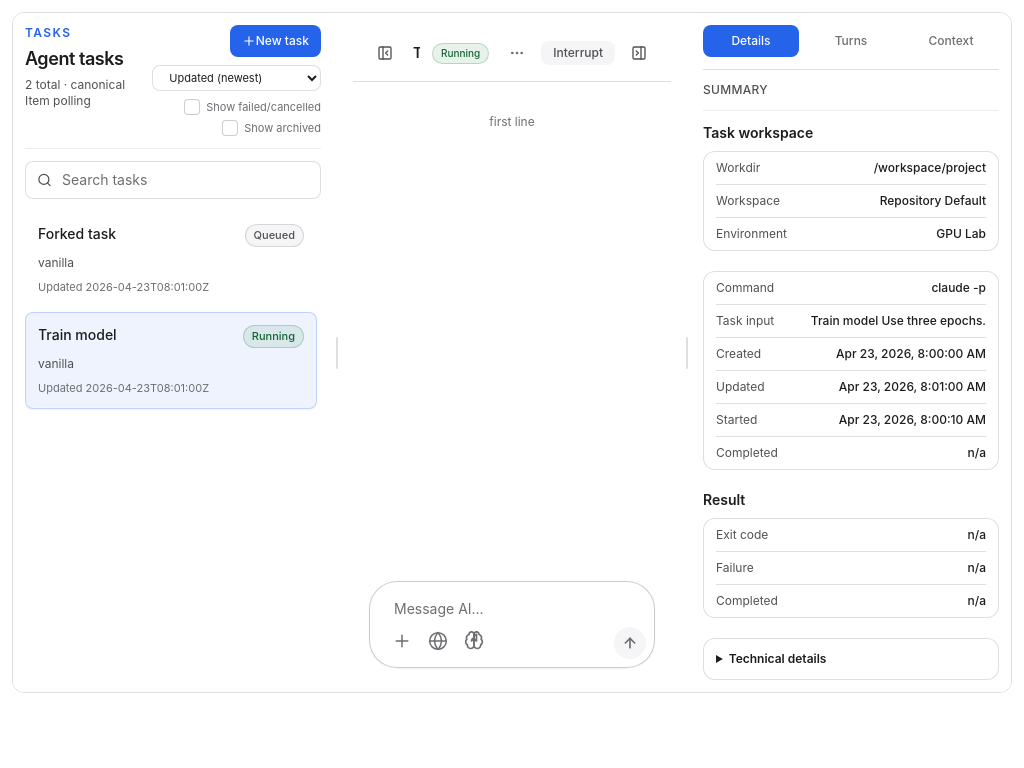
Test: TasksPage › previews a fork before explicit confirmation and selects the canonical target Task
Check: the heading "Train model" is shown, box [413,43,420,63]
Click the button named "Task actions" at (517, 53), box [501,37,533,69]
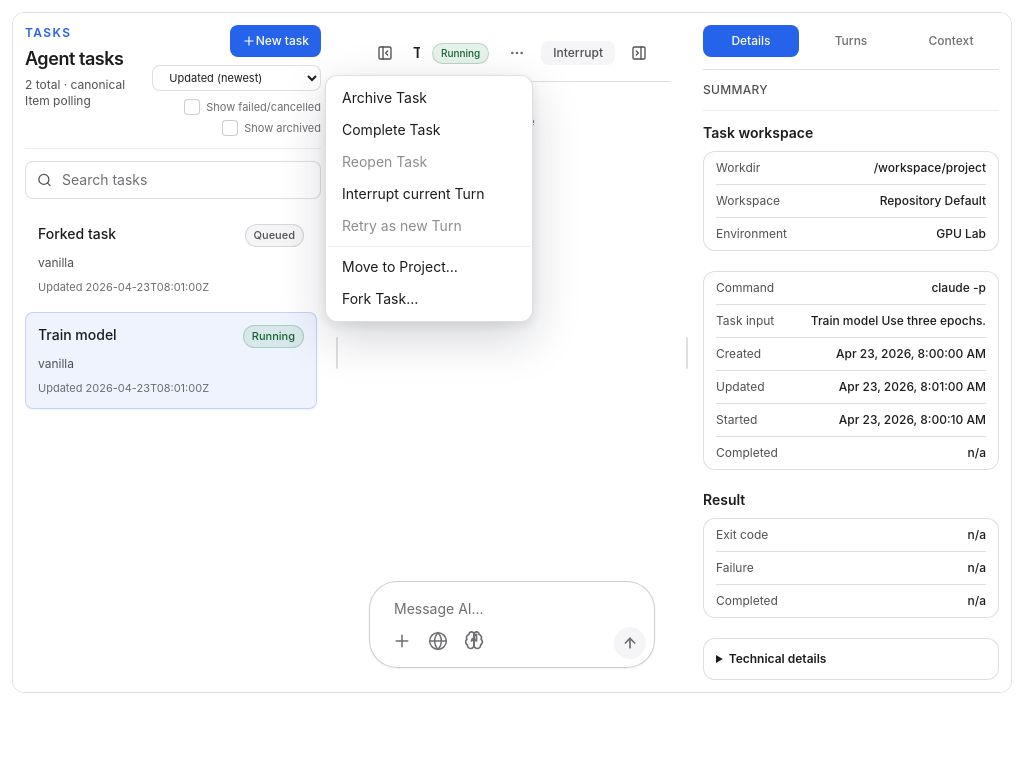
Click the menu item "Fork Task…" at (380, 298), box [342,290,418,307]
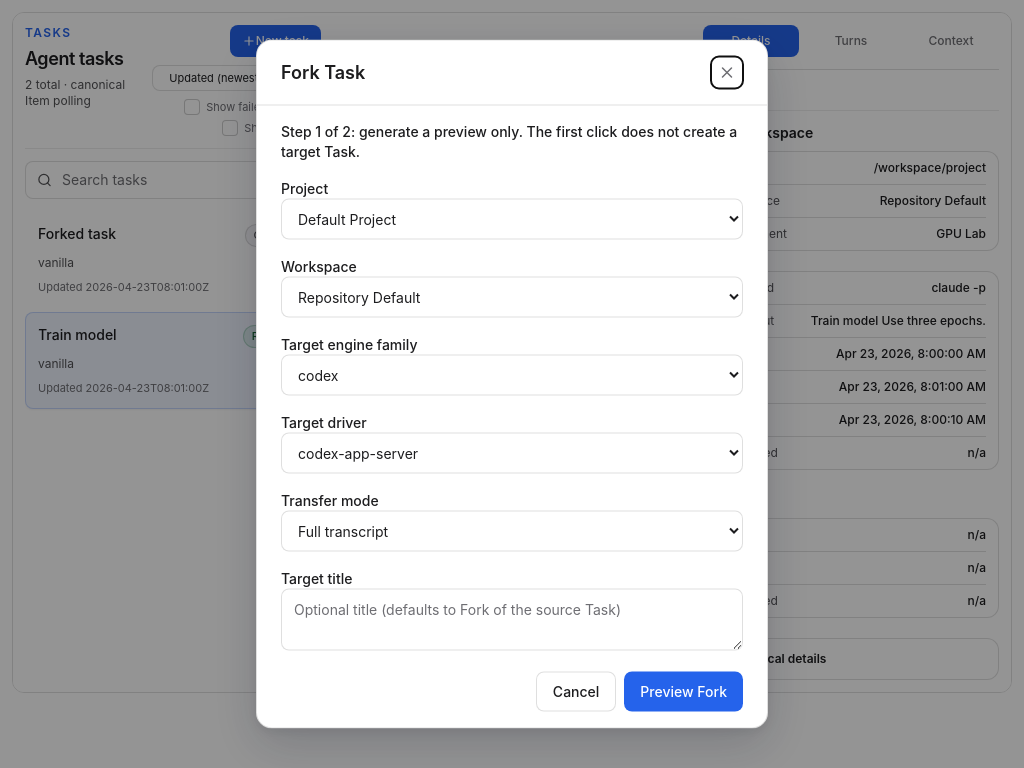
Click the button "Preview Fork" at (684, 692), box [624,672,743,712]
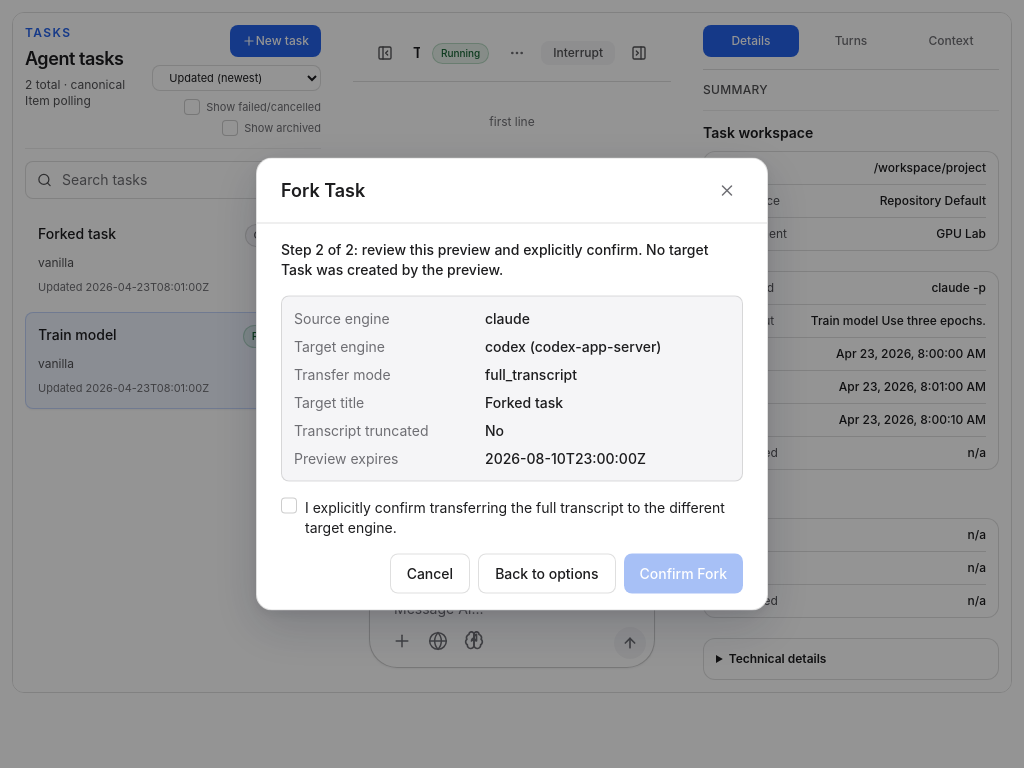
Check: the text "Step 2 of 2: review this preview and explicitly confirm. No target Task was created by the preview." is shown, box [281,240,708,278]
Check: the text "Source engine" is shown, box [294,310,390,326]
Check: the text "codex (codex-app-server)" is shown, box [485,338,662,354]
Click the checkbox named "Confirm full transcript transfer" at (289, 506), box [281,498,297,514]
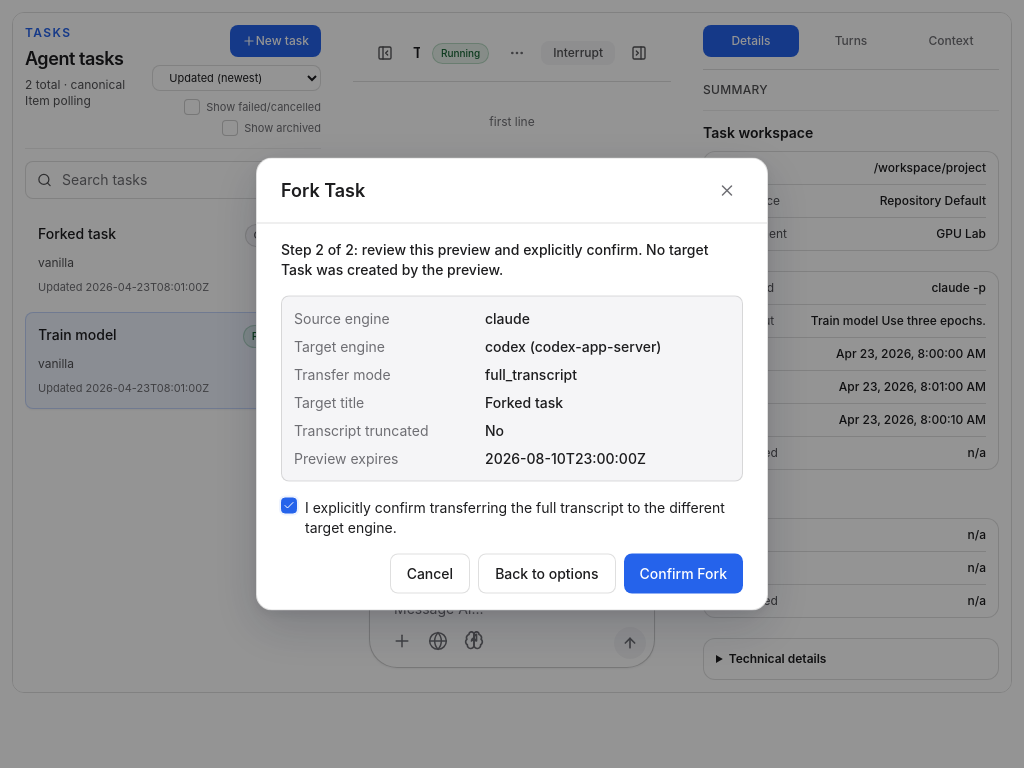
Click the button "Confirm Fork" at (683, 574), box [624,554,743,594]
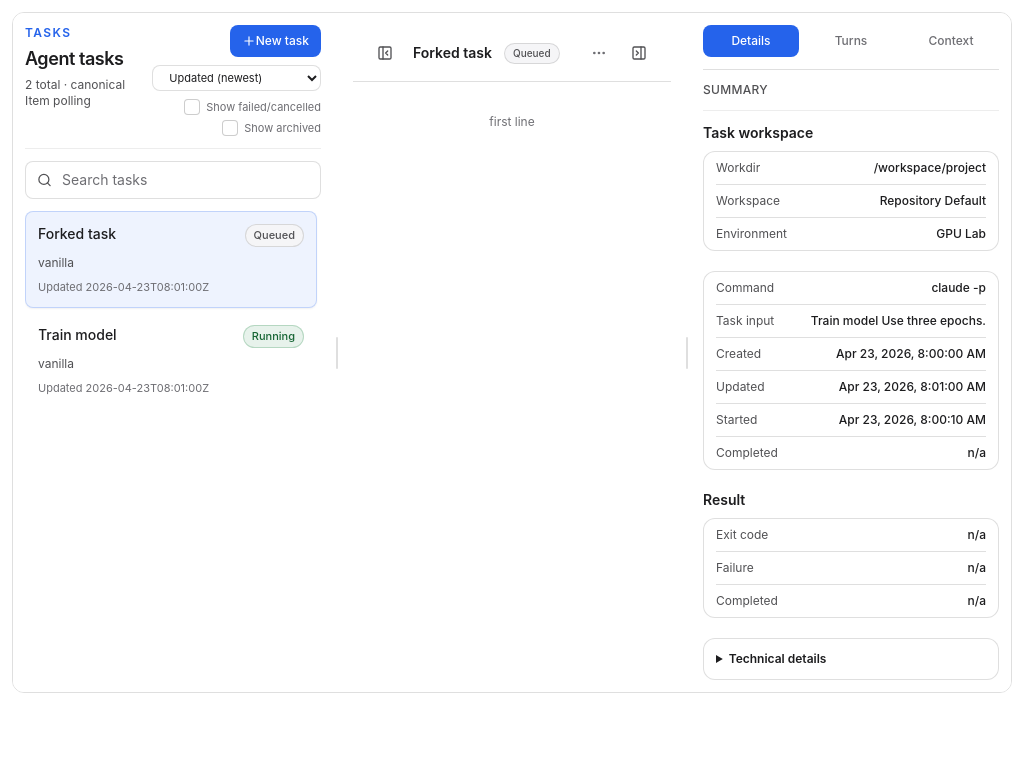
Check: the heading "Forked task" is shown, box [413,43,492,63]
